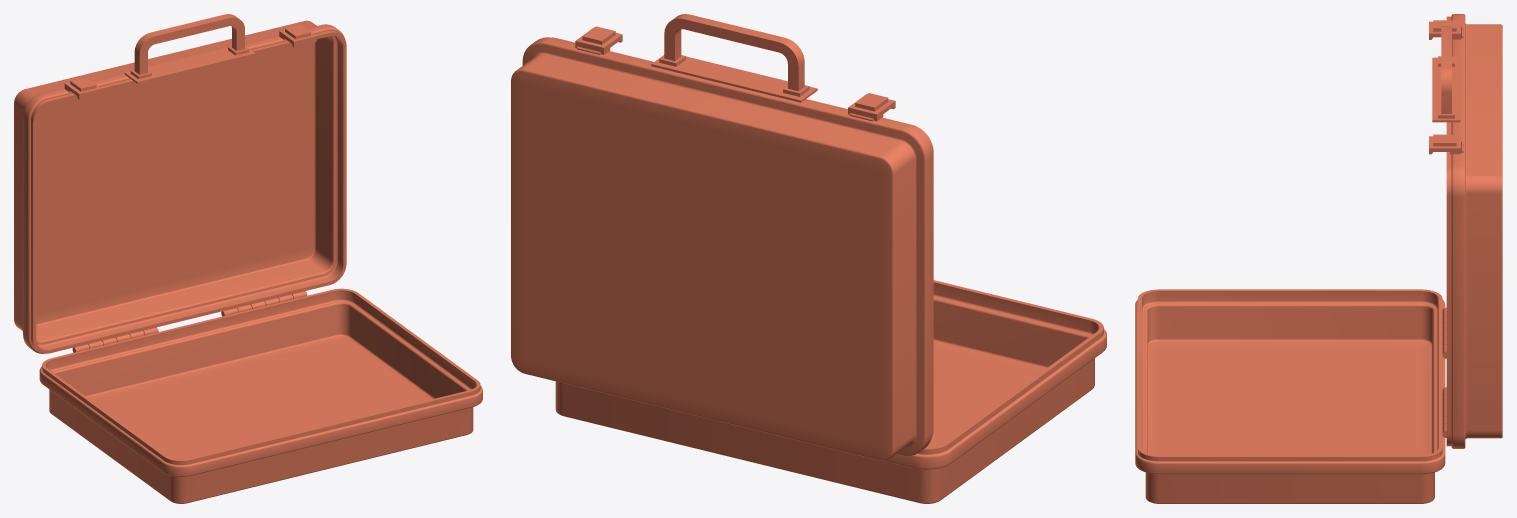
The model's file is medkit case.fbx.
The picture shows the model from 3 angles, left to right: view 1: azimuth 30°, elevation 25°; view 2: azimuth 150°, elevation 25°; view 3: azimuth 270°, elevation 25°; orthographic projection. The views are drawn at different scales.
Visible parts, largest first — view 1: case top.002, case bottom.003, opener.006, opener.007, engsel.001, opener.004, opener.005; view 2: case top.002, case bottom.003, opener.006, opener.007, opener.004, opener.005; view 3: case bottom.003, case top.002, opener.007, opener.006, opener.004, opener.005, engsel.001.
Part boxes in pixels (x1,y1,x2,y2): case top.002: [14, 20, 346, 353]; case bottom.003: [39, 288, 482, 503]; opener.006: [130, 14, 248, 79]; opener.007: [124, 46, 255, 83]; engsel.001: [72, 291, 307, 352]; opener.004: [64, 26, 316, 99]; opener.005: [70, 25, 310, 91]; case top.002: [511, 37, 933, 460]; case bottom.003: [555, 280, 1106, 503]; opener.006: [659, 14, 809, 96]; opener.007: [651, 55, 817, 102]; opener.004: [575, 27, 895, 121]; opener.005: [582, 26, 888, 111]; case bottom.003: [1135, 289, 1445, 503]; case top.002: [1446, 14, 1502, 448]; opener.007: [1432, 57, 1460, 122]; opener.006: [1438, 26, 1454, 118]; opener.004: [1429, 21, 1460, 154]; opener.005: [1433, 20, 1456, 146]; engsel.001: [1442, 307, 1446, 437].
Size of the model in its own units: 0.3168 by 0.3275 by 0.29.
